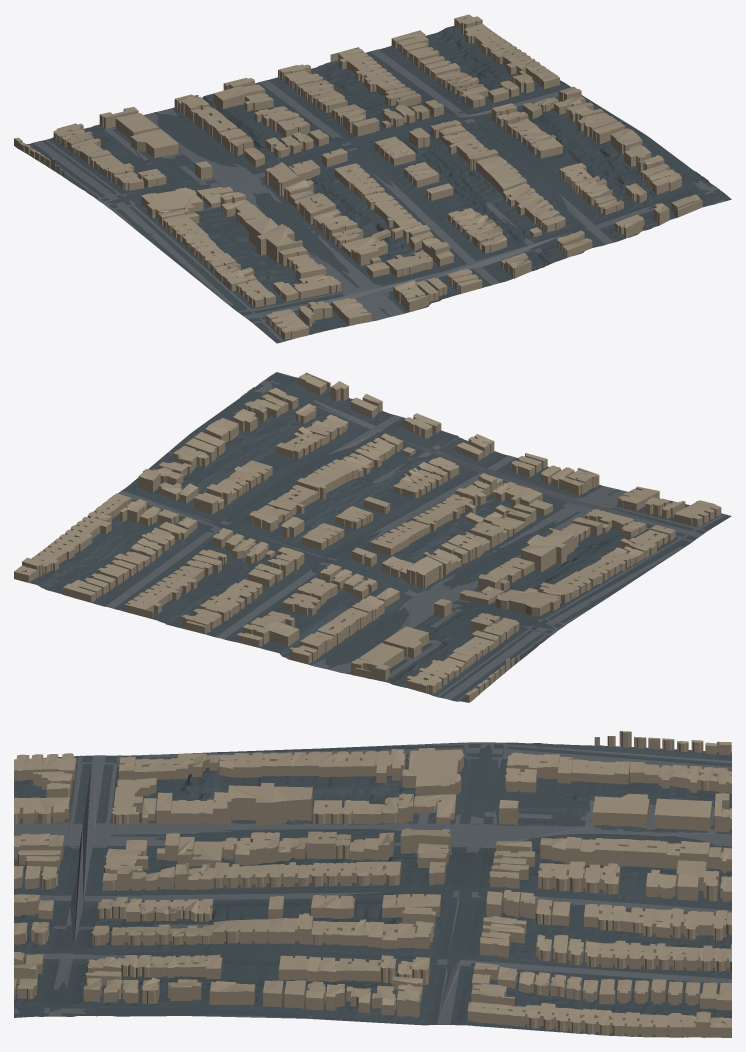
File: epsg26910-1422-10880.lod0.glb
3 renders of one model, top to bottom at view 1: azimuth 30°, elevation 25°; view 2: azimuth 150°, elevation 25°; view 3: azimuth 270°, elevation 25°, orthographic. The views are drawn at different scales.
Parts seen in each view (by area): view 1: epsg26910-1422-10880-lod0; view 2: epsg26910-1422-10880-lod0; view 3: epsg26910-1422-10880-lod0.
Part boxes in pixels (box(x1,y1,x2,y2)): epsg26910-1422-10880-lod0: box(14, 14, 731, 343); epsg26910-1422-10880-lod0: box(14, 372, 731, 702); epsg26910-1422-10880-lod0: box(14, 731, 731, 1037).
Bounding box in the file's own units: 384 × 37.41 × 384.
